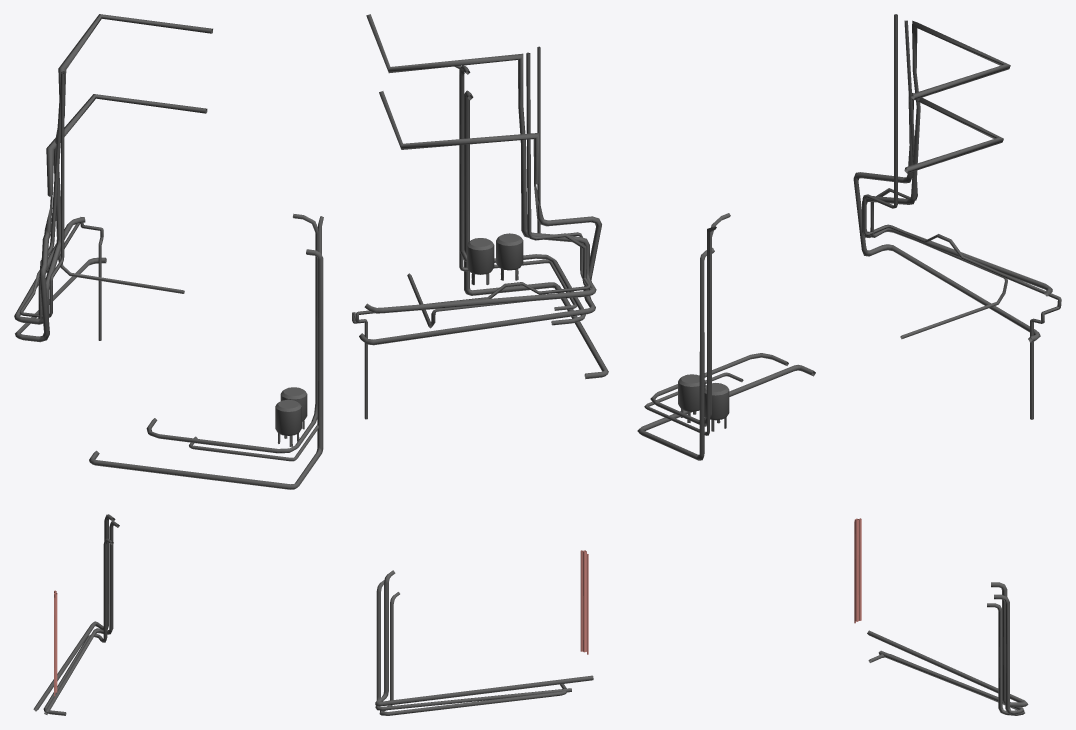
File: tuyau 1 01.fbx
3 renders of one model, left to right at view 1: azimuth 30°, elevation 25°; view 2: azimuth 150°, elevation 25°; view 3: azimuth 270°, elevation 25°, orthographic. The views are drawn at different scales.
Parts seen in each view (by area): view 1: Plane.365, Plane.859, Plane.199, Plane.197, Plane.364, Plane.198, Plane.146, Circle.030, Plane.139, Plane.158, Plane.362; view 2: Plane.199, Plane.859, Plane.365, Plane.158, Plane.197, Plane.198, Plane.364, Plane.146, Plane.139, Circle.029, Circle.030, Plane.362; view 3: Plane.859, Plane.199, Plane.197, Plane.365, Plane.198, Plane.158, Plane.146, Plane.364, Plane.362, Circle.030, Circle.029, Plane.139.
Part boxes in pixels (box(x1,y1,x2,y2)): Plane.365: box(89, 249, 323, 489); Plane.859: box(15, 94, 207, 342); Plane.199: box(14, 14, 212, 324); Plane.197: box(19, 72, 103, 340); Plane.364: box(146, 213, 318, 453); Plane.198: box(16, 71, 184, 318); Plane.146: box(44, 521, 119, 714); Circle.030: box(275, 399, 301, 446); Plane.139: box(43, 538, 113, 715); Plane.158: box(33, 514, 115, 711); Plane.362: box(189, 216, 323, 461); Plane.199: box(364, 14, 596, 313); Plane.859: box(359, 91, 601, 345); Plane.365: box(464, 90, 608, 379); Plane.158: box(375, 570, 593, 706); Plane.197: box(352, 46, 590, 419); Plane.198: box(407, 52, 592, 328); Plane.364: box(459, 65, 585, 325); Plane.146: box(375, 580, 571, 710); Plane.139: box(379, 592, 566, 715); Circle.029: box(467, 238, 494, 284); Circle.030: box(496, 233, 523, 280); Plane.362: box(454, 66, 576, 310); Plane.859: box(853, 93, 1040, 342); Plane.199: box(862, 20, 1052, 296); Plane.197: box(862, 14, 1061, 419); Plane.365: box(637, 247, 815, 460); Plane.198: box(870, 20, 1007, 339); Plane.158: box(867, 582, 1028, 706); Plane.146: box(878, 594, 1024, 714); Plane.364: box(650, 213, 788, 424); Plane.362: box(644, 226, 743, 435); Circle.030: box(678, 374, 705, 422); Circle.029: box(704, 383, 729, 431); Plane.139: box(868, 603, 1024, 715).
Size of the model in its own units: 3822 by 10263 by 6042.
